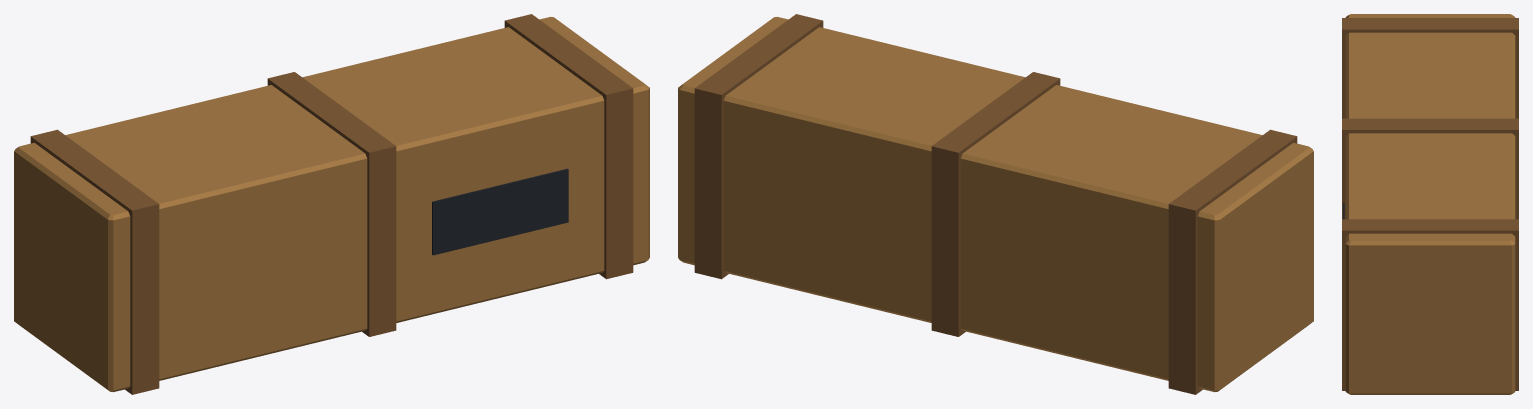
Rendered from crate_long.glb.
3 renders of one model, left to right at view 1: azimuth 30°, elevation 25°; view 2: azimuth 150°, elevation 25°; view 3: azimuth 270°, elevation 25°, orthographic. The views are drawn at different scales.
Visible parts, largest first — view 1: crate_long; view 2: crate_long; view 3: crate_long.
Part boxes in pixels (left/top/right/bottom): crate_long: left=14, top=14, right=649, bottom=394; crate_long: left=678, top=14, right=1313, bottom=394; crate_long: left=1342, top=14, right=1518, bottom=394.
Size of the model in its own units: 1.6 by 0.52 by 0.52.
